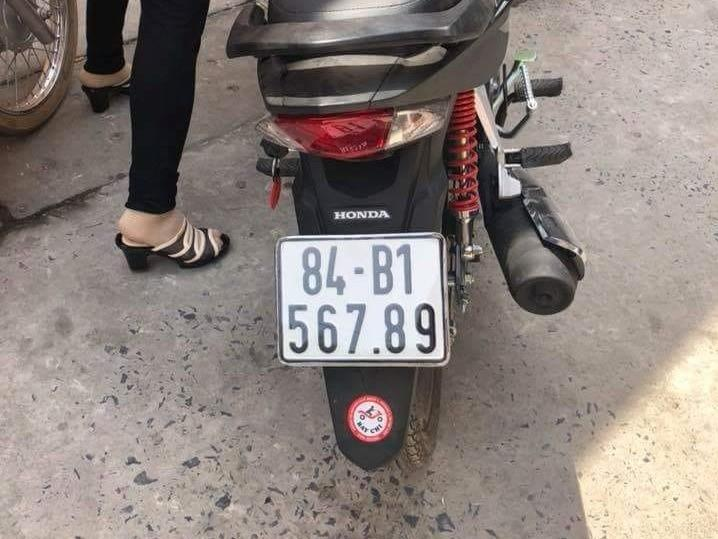numplate: (272, 229, 448, 367)
